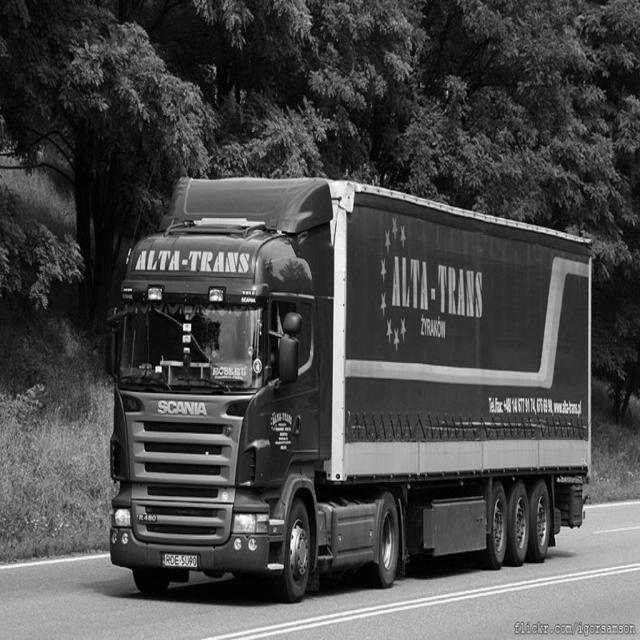plate: (162, 555, 197, 567)
